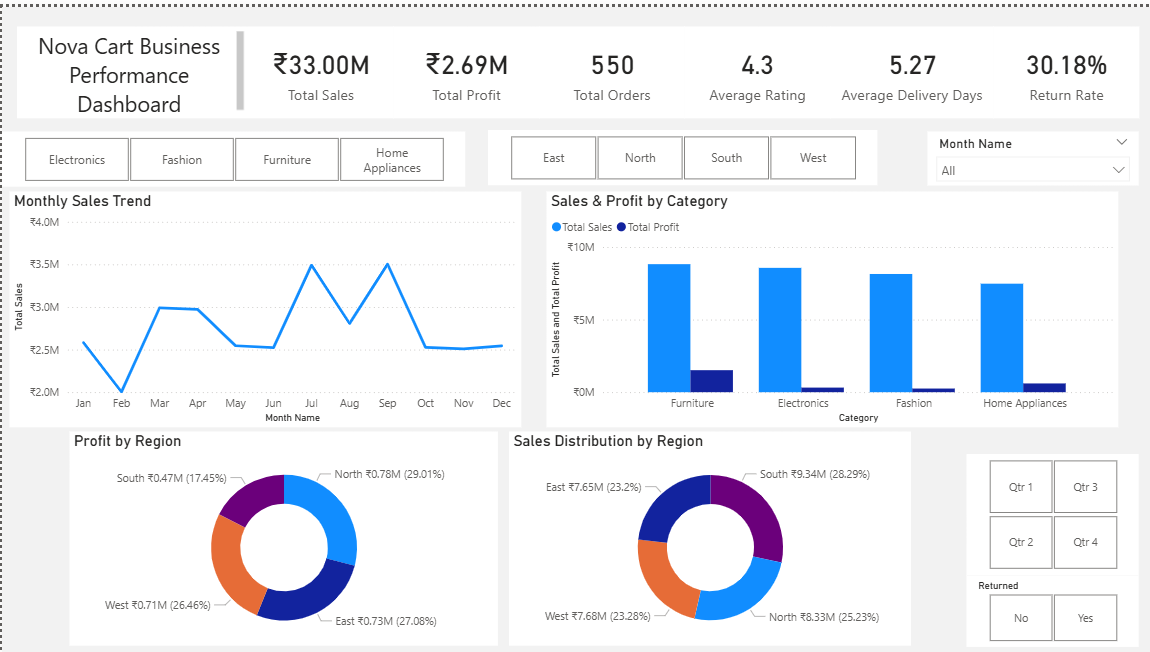

Layout of this report page (visuals, bound fields, positions):
{"tool":"powerbi","page":{"name":"Page 1","canvas":[1280,720],"ordinal":0},"visuals":[{"type":"card","fields":{"Values":["Orders.Total Sales"]},"box":[272.7,21.6,161.7,101.7],"z":0},{"type":"card","fields":{"Values":["Orders.Total Profit"]},"box":[434.4,21.6,161.7,101.7],"z":1000},{"type":"card","fields":{"Values":["Orders.Average Rating"]},"box":[757.7,21.6,161.7,101.7],"z":2000},{"type":"card","fields":{"Values":["Orders.Total Orders"]},"box":[596.1,21.6,161.7,101.7],"z":3000},{"type":"card","fields":{"Values":["Orders.Average Delivery Days"]},"box":[919.4,21.6,181.7,101.7],"z":4000},{"type":"card","fields":{"Values":["Orders.Return Rate"]},"box":[1101.1,21.6,161.7,101.7],"z":5000},{"type":"lineChart","title":"Monthly Sales Trend","fields":{"Category":["Orders.Month Name"],"Y":["Orders.Total Sales"]},"box":[8.3,205,568.3,261.7],"z":6000},{"type":"clusteredColumnChart","title":"Sales & Profit by Category","fields":{"Y":["Orders.Total Sales","Orders.Total Profit"],"Category":["Orders.Category"]},"box":[605,205,635,261.7],"z":7000},{"type":"donutChart","title":"Profit by Region","fields":{"Category":["Orders.Region"],"Y":["Orders.Total Profit"]},"box":[74.5,482.5,476.1,238],"z":8000},{"type":"donutChart","title":"Sales Distribution by Region","fields":{"Category":["Orders.Region"],"Y":["Orders.Total Sales"]},"box":[563.5,482.5,446.9,238],"z":9000},{"type":"textbox","box":[16.7,21.7,256.7,101.7],"z":10000},{"type":"slicer","fields":{"Values":["Orders.Region"]},"box":[540.8,136,432.3,61.5],"z":11000},{"type":"slicer","fields":{"Values":["Orders.Category"]},"box":[0,137.6,514.9,61.5],"z":12000},{"type":"slicer","fields":{"Values":["Orders.Month Name"]},"box":[1028.2,137.6,234.8,59.9],"z":13000},{"type":"slicer","fields":{"Values":["Orders.Order_Date.Variation.Date Hierarchy.Quarter"]},"box":[1071.9,506.8,191.1,134.4],"z":14000},{"type":"slicer","fields":{"Values":["Orders.Returned"]},"box":[1071.9,641.2,191.1,79.3],"z":14001}]}

Visuals, with their boxes in screenshot pixels (x1, y1, x2, y2), scaled from the page's 1280x720 canvas onto the 1150x652 screenshot:
card - Orders.Total Sales: {"x1": 245, "y1": 20, "x2": 390, "y2": 112}
card - Orders.Total Profit: {"x1": 390, "y1": 20, "x2": 536, "y2": 112}
card - Orders.Average Rating: {"x1": 681, "y1": 20, "x2": 826, "y2": 112}
card - Orders.Total Orders: {"x1": 536, "y1": 20, "x2": 681, "y2": 112}
card - Orders.Average Delivery Days: {"x1": 826, "y1": 20, "x2": 989, "y2": 112}
card - Orders.Return Rate: {"x1": 989, "y1": 20, "x2": 1135, "y2": 112}
"Monthly Sales Trend" lineChart: {"x1": 7, "y1": 186, "x2": 518, "y2": 423}
"Sales & Profit by Category" clusteredColumnChart: {"x1": 544, "y1": 186, "x2": 1114, "y2": 423}
"Profit by Region" donutChart: {"x1": 67, "y1": 437, "x2": 495, "y2": 651}
"Sales Distribution by Region" donutChart: {"x1": 506, "y1": 437, "x2": 908, "y2": 651}
textbox: {"x1": 15, "y1": 20, "x2": 246, "y2": 112}
slicer - Orders.Region: {"x1": 486, "y1": 123, "x2": 874, "y2": 179}
slicer - Orders.Category: {"x1": 0, "y1": 125, "x2": 463, "y2": 180}
slicer - Orders.Month Name: {"x1": 924, "y1": 125, "x2": 1135, "y2": 179}
slicer - Orders.Order_Date.Variation.Date Hierarchy.Quarter: {"x1": 963, "y1": 459, "x2": 1135, "y2": 581}
slicer - Orders.Returned: {"x1": 963, "y1": 581, "x2": 1135, "y2": 651}
